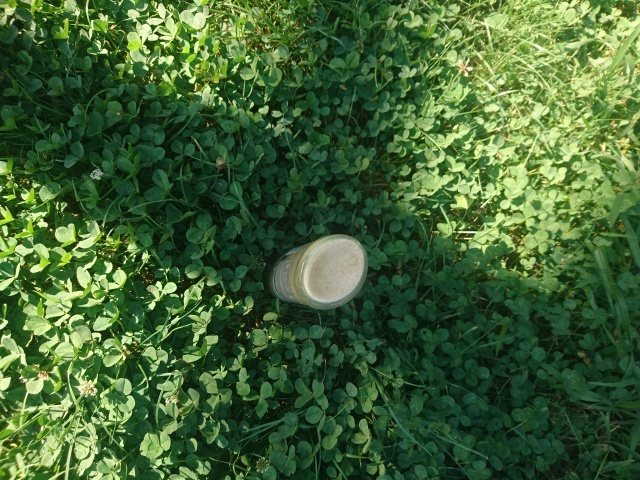Kotanyi Garlic Granules 70g: (261, 232, 371, 312)
